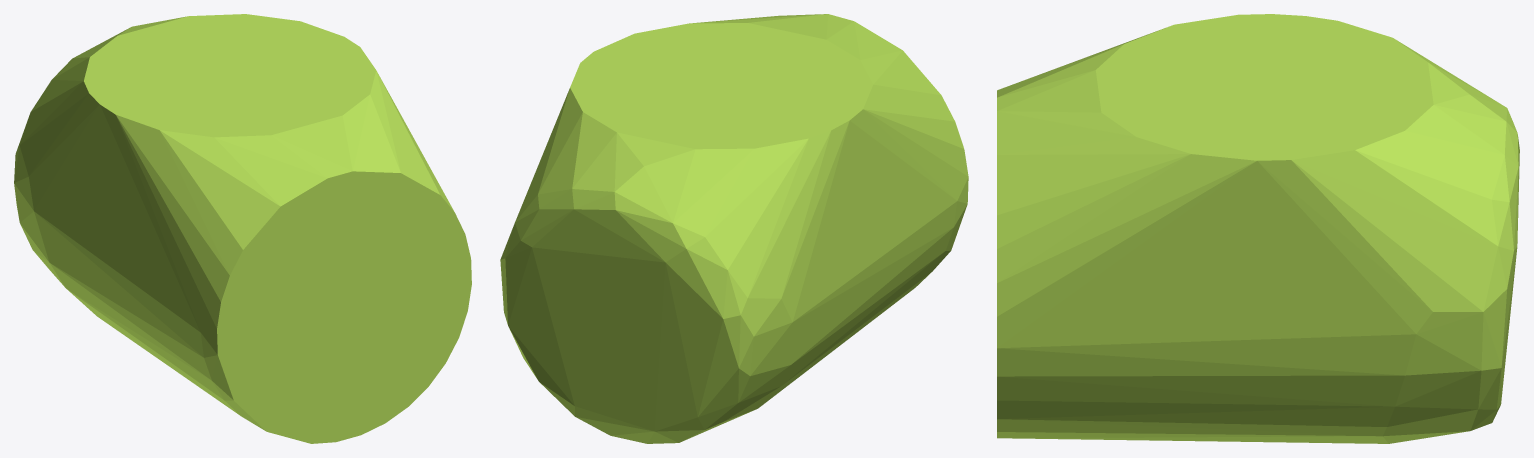
The model's file is ur3_link_4_coll_1.dae.
The picture shows the model from 3 angles, left to right: view 1: azimuth 30°, elevation 25°; view 2: azimuth 150°, elevation 25°; view 3: azimuth 270°, elevation 25°; orthographic projection. The views are drawn at different scales.
Parts seen in each view (by area): view 1: Node_000002223FC9C060; view 2: Node_000002223FC9C060; view 3: Node_000002223FC9C060.
Part boxes in pixels (box(x1,y1,x2,y2)): Node_000002223FC9C060: box(14, 14, 471, 443); Node_000002223FC9C060: box(500, 14, 968, 443); Node_000002223FC9C060: box(997, 14, 1519, 443).
Bounding box in the file's own units: 0.065 × 0.0675 × 0.0942.
